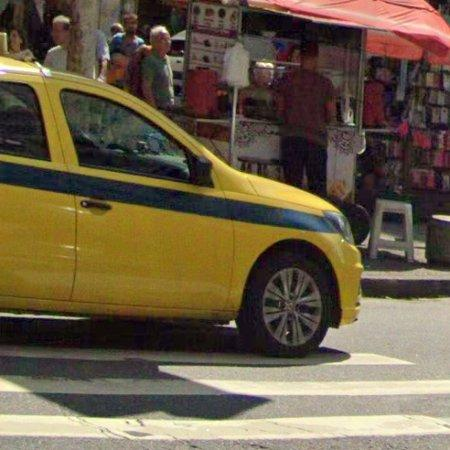taxis: (0, 57, 363, 356)
